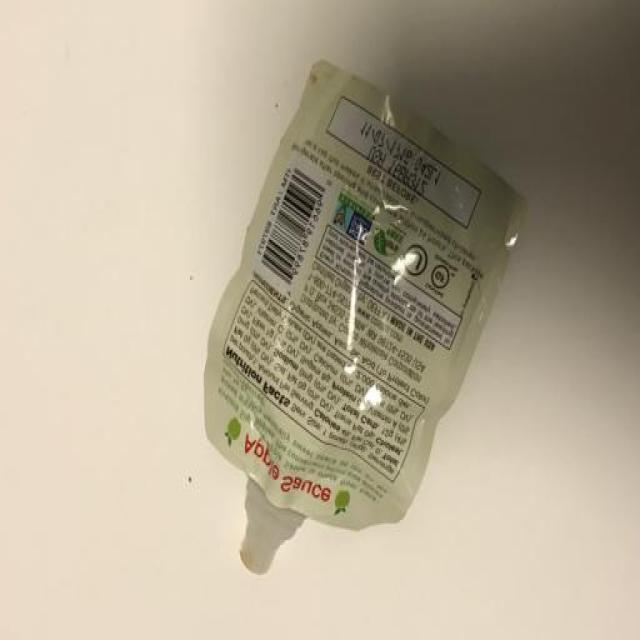Random Trash: (204, 57, 529, 573)
